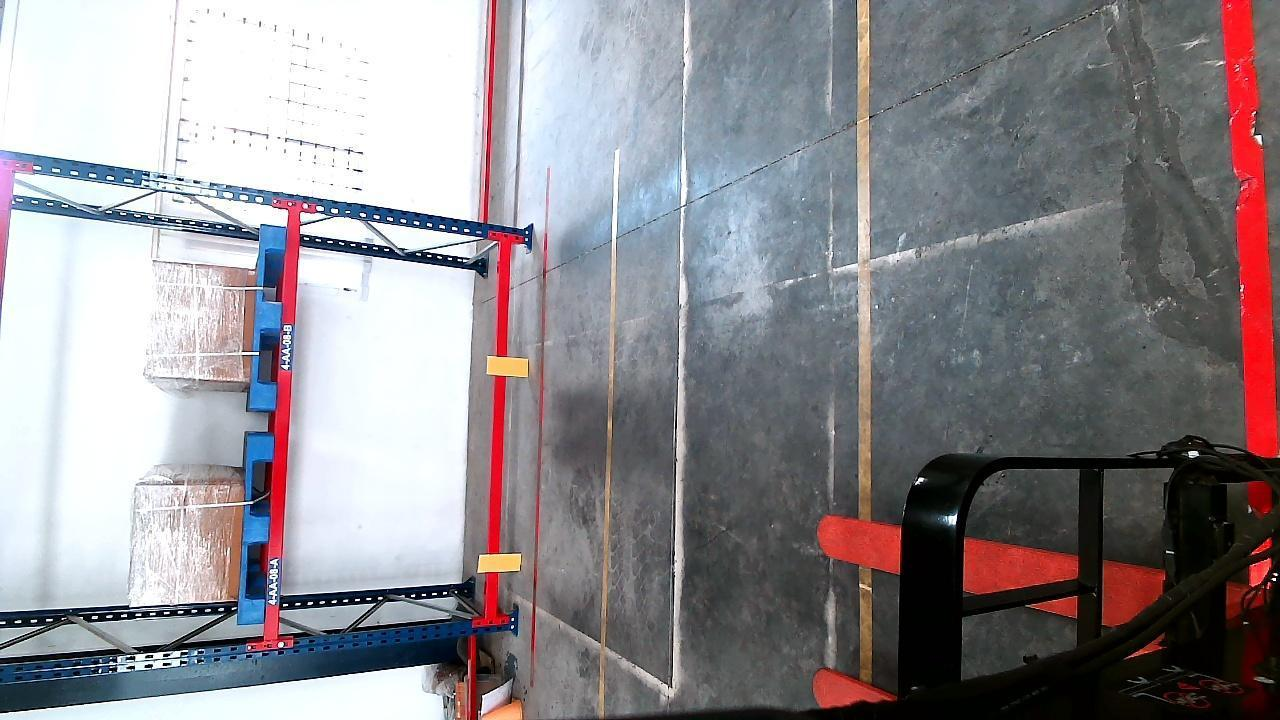h_rack: (265, 199, 303, 642), (488, 244, 510, 612)
orange_strip: (491, 354, 531, 378), (481, 552, 522, 574)
small_pallet: (253, 228, 286, 417), (239, 449, 275, 617)
yellow_line: (597, 146, 628, 714), (854, 0, 876, 504)
